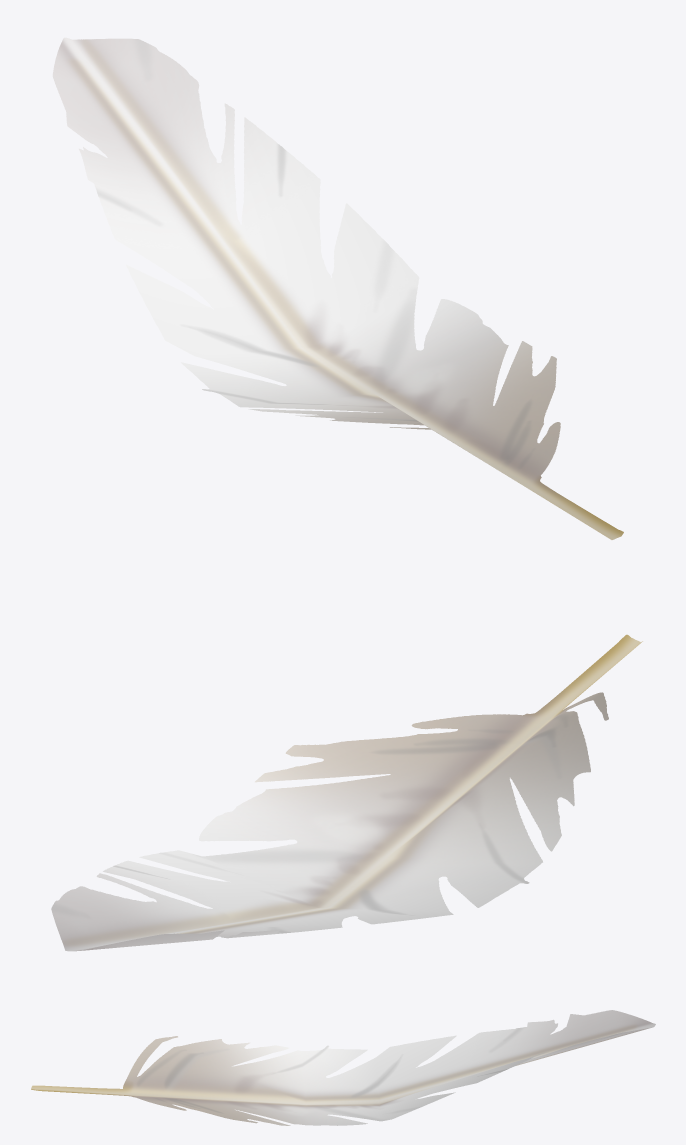
The model's file is SM_feather.fbx.
The picture shows the model from 3 angles, top to bottom: view 1: azimuth 30°, elevation 25°; view 2: azimuth 150°, elevation 25°; view 3: azimuth 270°, elevation 25°; orthographic projection. The views are drawn at different scales.
Parts seen in each view (by area): view 1: Plane.003; view 2: Plane.003; view 3: Plane.003.
Boxes of the visible parts, left/top/right/bottom form: Plane.003: left=52, top=37, right=623, bottom=539; Plane.003: left=51, top=634, right=642, bottom=951; Plane.003: left=31, top=1010, right=655, bottom=1125.
Size of the model in its own units: 8.14 by 3.85 by 23.89.
Materials: 1 (1 with a texture image).
